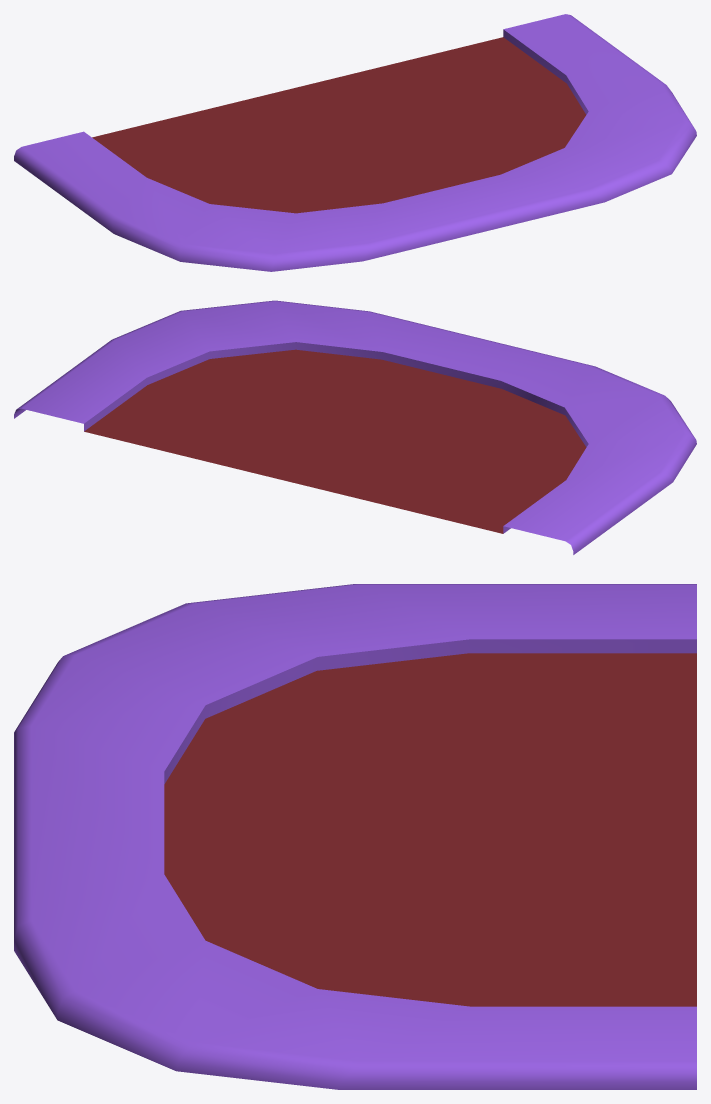
Rendered from WalkRoad_End.fbx.
3 views of the same model, one above another, from view 1: azimuth 30°, elevation 25°; view 2: azimuth 150°, elevation 25°; view 3: azimuth 270°, elevation 25° (orthographic). The views are drawn at different scales.
Visible parts, largest first — view 1: WalkRoad_End; view 2: WalkRoad_End; view 3: WalkRoad_End.
Boxes of the visible parts, box(x1,y1,x2,y2) form: WalkRoad_End: box(14, 14, 696, 271); WalkRoad_End: box(14, 300, 696, 554); WalkRoad_End: box(14, 584, 696, 1089).
Size of the model in its own units: 871 by 18.25 by 513.
